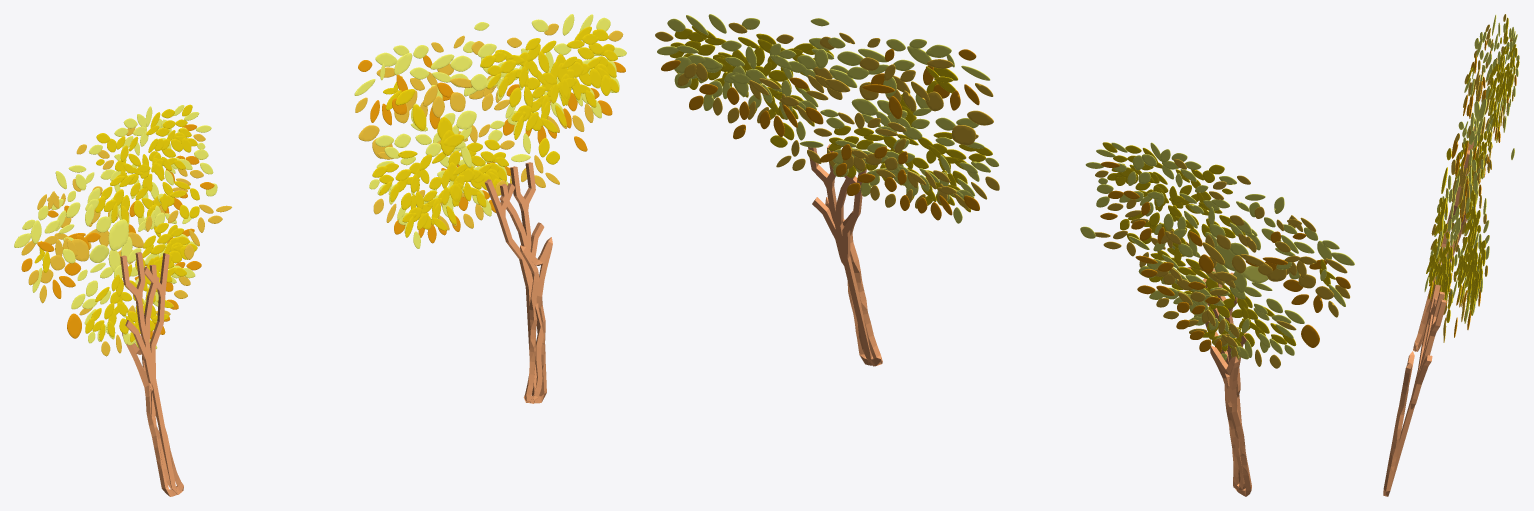
File: FallHouseTrees.glb
The picture shows the model from 3 angles, left to right: view 1: azimuth 30°, elevation 25°; view 2: azimuth 150°, elevation 25°; view 3: azimuth 270°, elevation 25°; orthographic projection. The views are drawn at different scales.
Parts seen in each view (by area): view 1: YellowTree.001, YellowTreeR.001; view 2: YellowTree.001, YellowTreeR.001; view 3: YellowTree.001, YellowTreeR.001.
Part boxes in pixels (x1,y1,x2,y2): YellowTree.001: [484, 162, 552, 403]; YellowTreeR.001: [120, 252, 183, 496]; YellowTree.001: [808, 144, 882, 366]; YellowTreeR.001: [1187, 266, 1251, 496]; YellowTree.001: [1383, 284, 1446, 496]; YellowTreeR.001: [1413, 127, 1476, 351].
Size of the model in its own units: 285 by 161 by 56.86.
